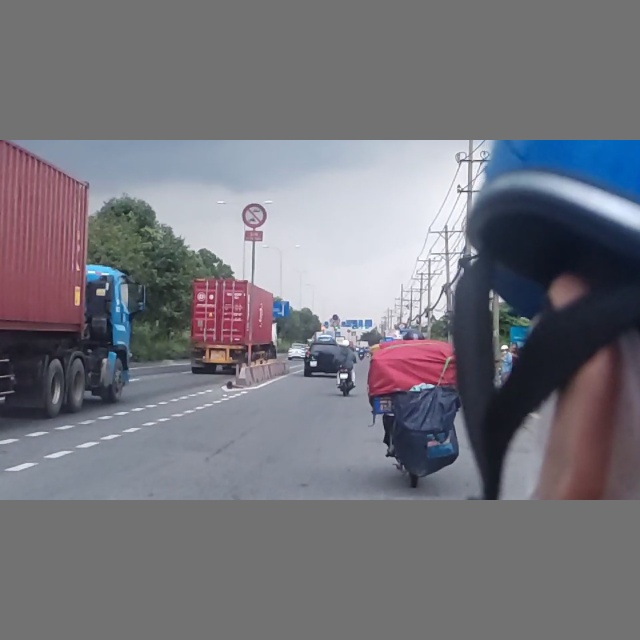P.111: (243, 203, 267, 228)
